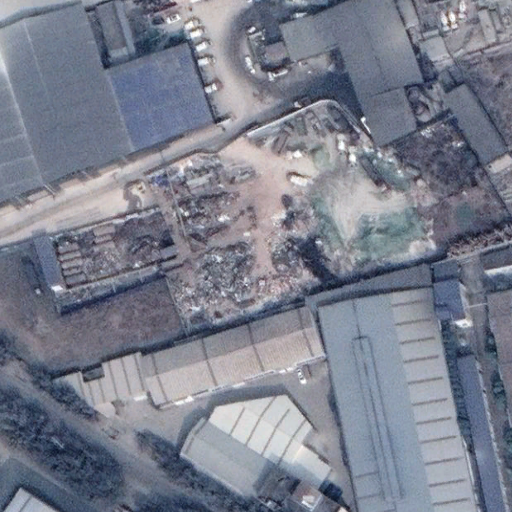msw: (158, 150, 316, 328)
